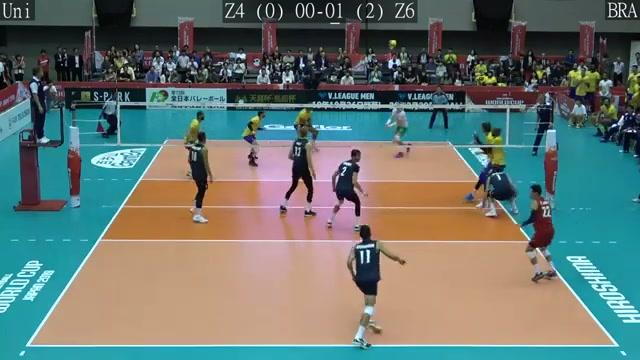ball: (389, 39, 399, 51)
